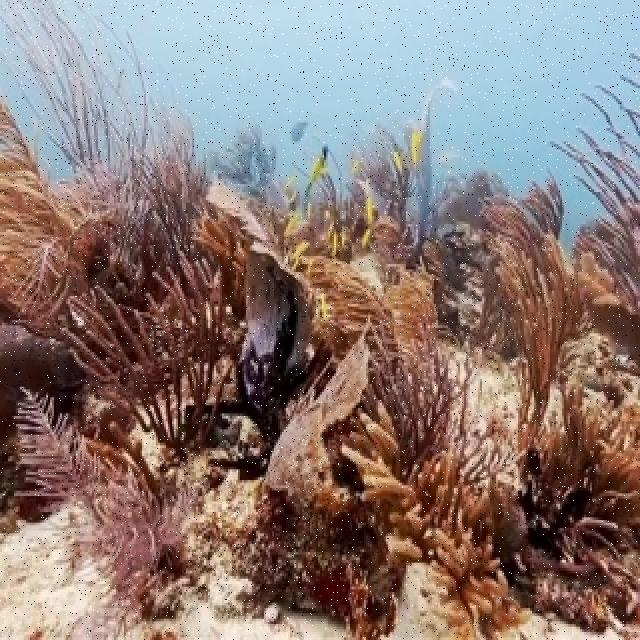reefs: (341, 303, 638, 637), (0, 0, 246, 334), (56, 252, 233, 490), (15, 388, 161, 619), (480, 172, 593, 441), (552, 50, 638, 312)
